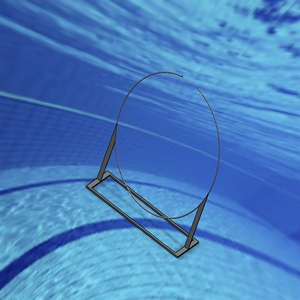circle: (86, 69, 222, 258)
